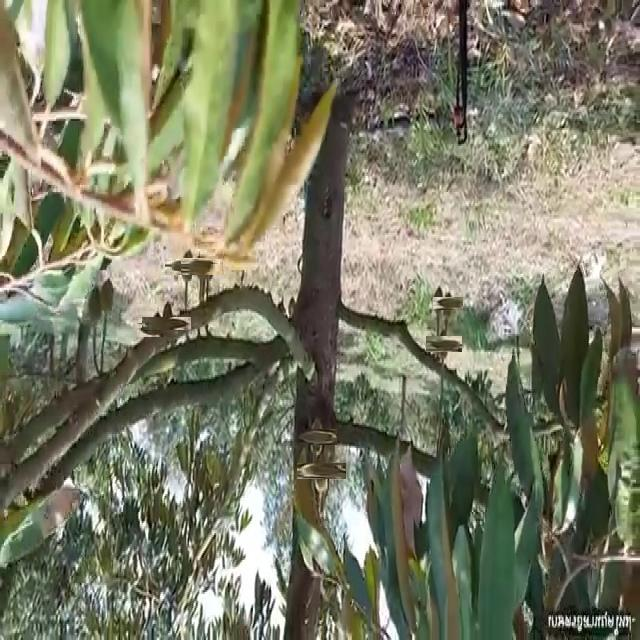durian: (305, 455, 338, 488), (151, 308, 183, 339), (97, 274, 117, 322), (85, 279, 104, 328), (172, 251, 202, 282), (188, 252, 217, 282), (303, 422, 331, 451), (143, 316, 171, 344), (430, 330, 457, 357), (436, 292, 459, 315), (432, 283, 446, 317)
